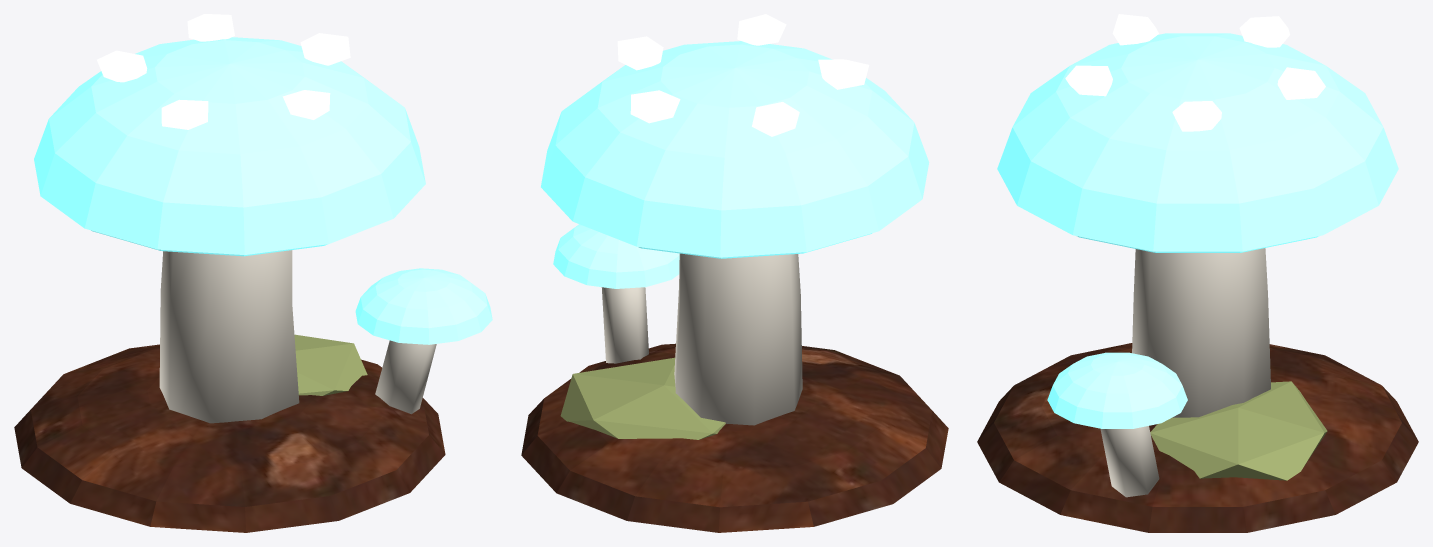
Rendered from glowcap.glb.
The picture shows the model from 3 angles, left to right: view 1: azimuth 30°, elevation 25°; view 2: azimuth 150°, elevation 25°; view 3: azimuth 270°, elevation 25°; orthographic projection. The views are drawn at different scales.
Visible parts, largest first — view 1: model; view 2: model; view 3: model.
Boxes of the visible parts, x1=… form: model: x1=14, y1=14, x2=492, y2=532; model: x1=521, y1=14, x2=948, y2=532; model: x1=977, y1=14, x2=1418, y2=532.
Size of the model in its own units: 0.2314 by 0.2128 by 0.22.
6 materials, 1 textured.
